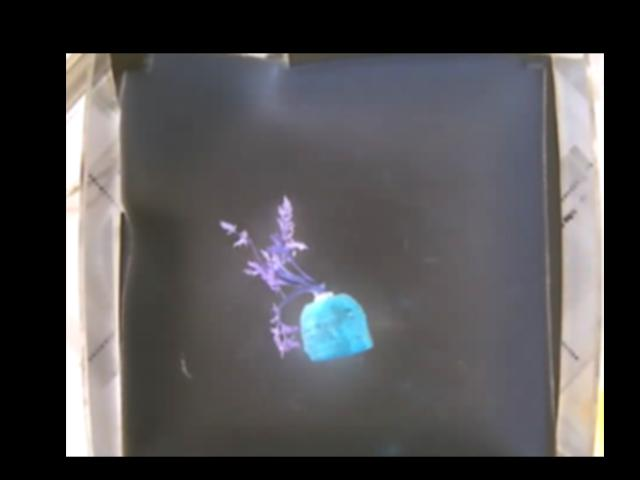Carrot: (219, 194, 371, 361)
